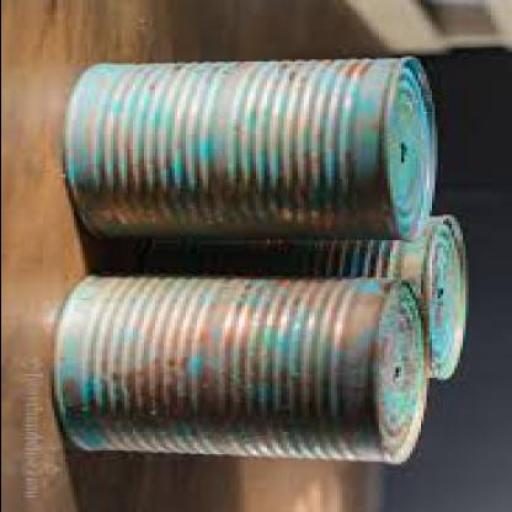metal: (68, 52, 442, 242), (59, 275, 431, 462), (140, 213, 470, 378)
